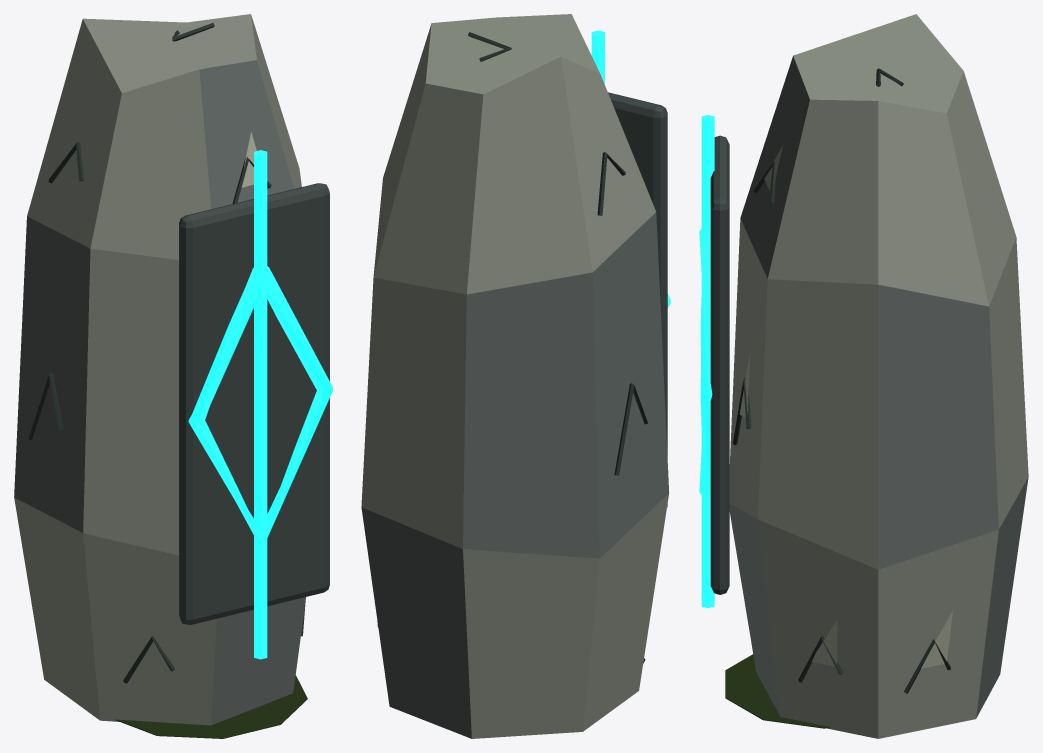
File: forest_rune_monolith.glb
3 renders of one model, left to right at view 1: azimuth 30°, elevation 25°; view 2: azimuth 150°, elevation 25°; view 3: azimuth 270°, elevation 25°, orthographic. The views are drawn at different scales.
Parts seen in each view (by area): view 1: Weathered shrine monolith, Flat engraved rune face, Glowing diamond rune, Rune vertical stroke, Rock root contact shade.002, Fine stone fracture.010; view 2: Weathered shrine monolith, Flat engraved rune face, Fine stone fracture.010, Rune vertical stroke; view 3: Weathered shrine monolith, Flat engraved rune face, Rune vertical stroke, Glowing diamond rune, Rock root contact shade.002, Stone weathered facet chip.004, Stone weathered facet chip.005.
Boxes of the visible parts, x1,y1,x2,y2 form: Weathered shrine monolith: [14, 14, 305, 725]; Flat engraved rune face: [179, 183, 329, 624]; Glowing diamond rune: [188, 266, 332, 544]; Rune vertical stroke: [254, 150, 267, 659]; Rock root contact shade.002: [115, 675, 307, 738]; Fine stone fracture.010: [28, 372, 63, 440]; Weathered shrine monolith: [361, 14, 669, 738]; Flat engraved rune face: [608, 92, 667, 507]; Fine stone fracture.010: [614, 383, 647, 475]; Rune vertical stroke: [591, 30, 604, 84]; Weathered shrine monolith: [729, 14, 1028, 738]; Flat engraved rune face: [710, 135, 729, 594]; Rune vertical stroke: [701, 115, 714, 607]; Glowing diamond rune: [699, 228, 712, 494]; Rock root contact shade.002: [725, 654, 830, 728]; Stone weathered facet chip.004: [921, 611, 952, 668]; Stone weathered facet chip.005: [812, 620, 837, 666].
Size of the model in its own units: 0.7098 by 1.69 by 0.7907.
